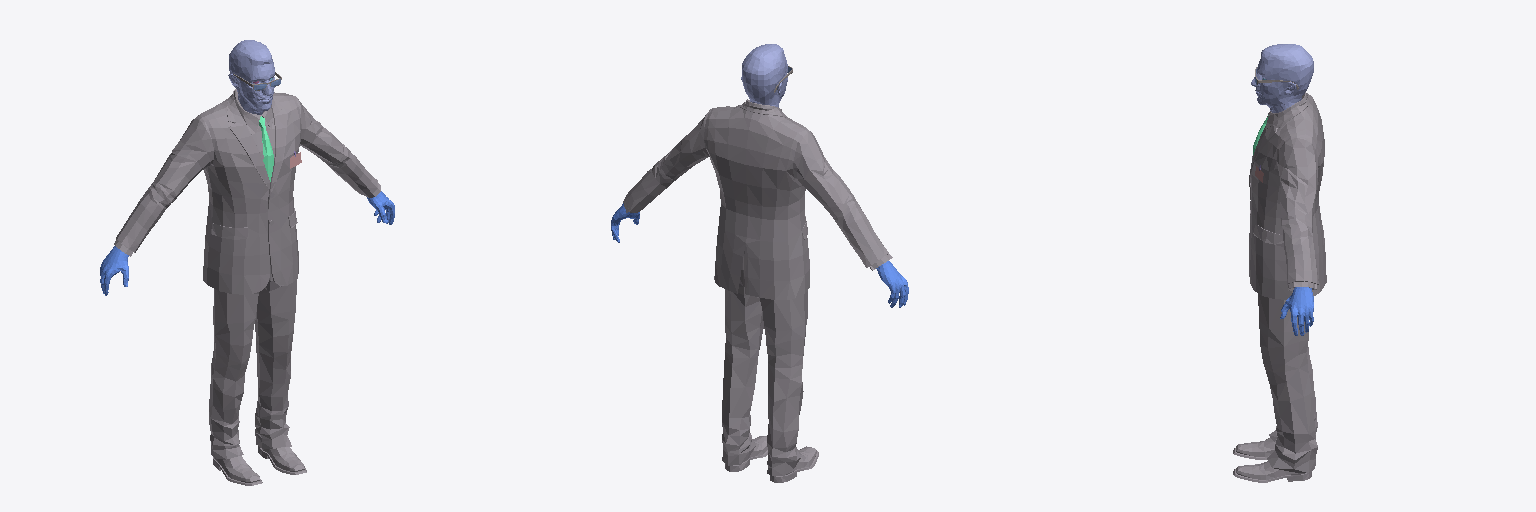
The model's file is male-07admin.obj.
3 renders of one model, left to right at view 1: azimuth 30°, elevation 25°; view 2: azimuth 150°, elevation 25°; view 3: azimuth 270°, elevation 25°, orthographic.
Visible parts, largest first — view 1: male_07_closed_tie_Closed_Tie_White, male_07_closed_tie_head_07; view 2: male_07_closed_tie_Closed_Tie_White, male_07_closed_tie_head_07; view 3: male_07_closed_tie_Closed_Tie_White, male_07_closed_tie_head_07.
Part boxes in pixels (left/top/right/bottom): male_07_closed_tie_Closed_Tie_White: left=100, top=89, right=394, bottom=485; male_07_closed_tie_head_07: left=228, top=40, right=274, bottom=114; male_07_closed_tie_Closed_Tie_White: left=611, top=99, right=908, bottom=482; male_07_closed_tie_head_07: left=741, top=44, right=787, bottom=107; male_07_closed_tie_Closed_Tie_White: left=1233, top=92, right=1326, bottom=482; male_07_closed_tie_head_07: left=1251, top=44, right=1313, bottom=112.
Bounding box in the file's own units: 52.73 × 72.07 × 14.6.